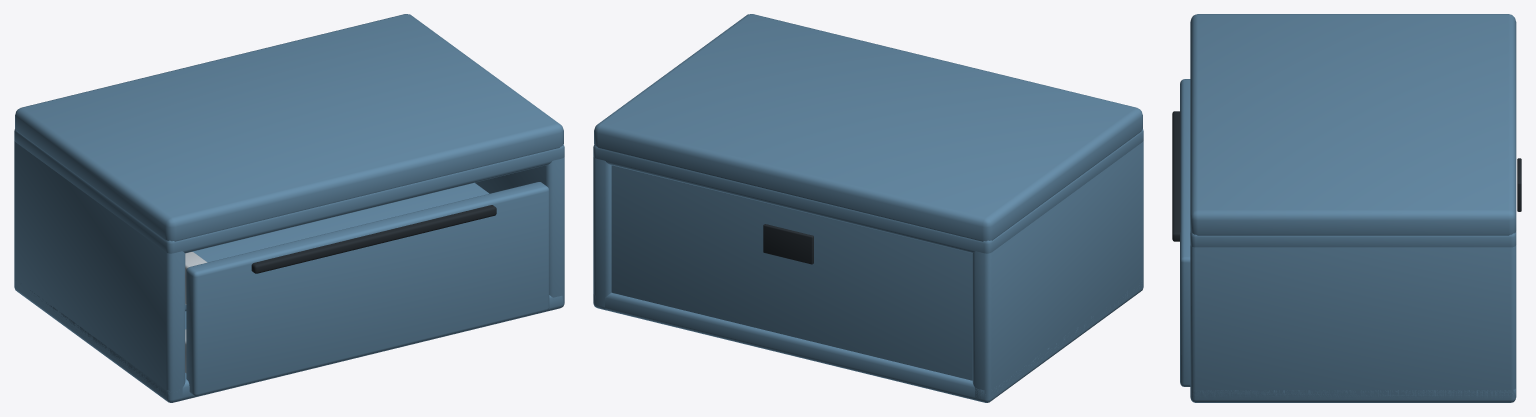
The model's file is floating-nightstand.glb.
3 renders of one model, left to right at view 1: azimuth 30°, elevation 25°; view 2: azimuth 150°, elevation 25°; view 3: azimuth 270°, elevation 25°, orthographic. The views are drawn at different scales.
Visible parts, largest first — view 1: floating-nightstand; view 2: floating-nightstand; view 3: floating-nightstand.
Boxes of the visible parts, bbox=[...] form: floating-nightstand: bbox=[14, 14, 564, 402]; floating-nightstand: bbox=[593, 14, 1143, 402]; floating-nightstand: bbox=[1172, 14, 1521, 402].
Bounding box in the file's own units: 0.52 × 0.23 × 0.38.
